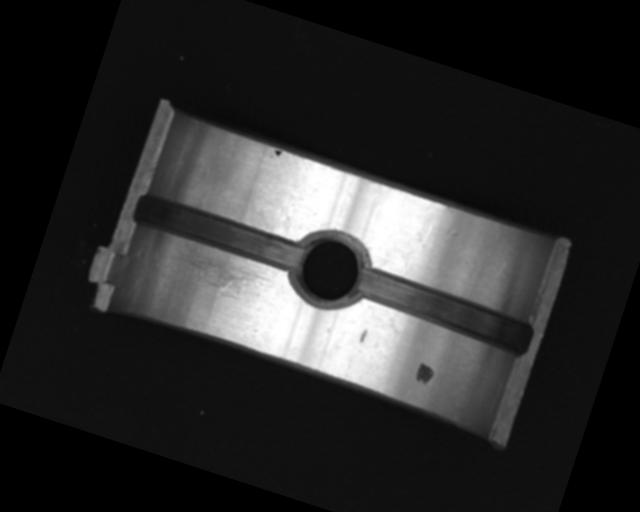blot: (412, 361, 436, 387), (268, 146, 282, 161)
bruise: (358, 328, 369, 344)
gap: (349, 265, 536, 360), (132, 191, 305, 271)
hole: (283, 221, 374, 315)
nick: (403, 221, 434, 279)
scratch: (160, 241, 277, 304)
